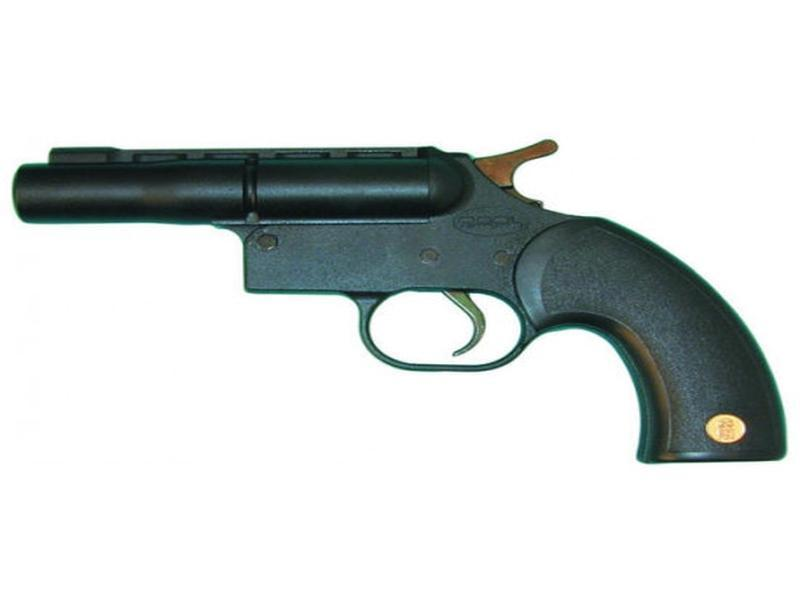GUN: (7, 131, 794, 467)
